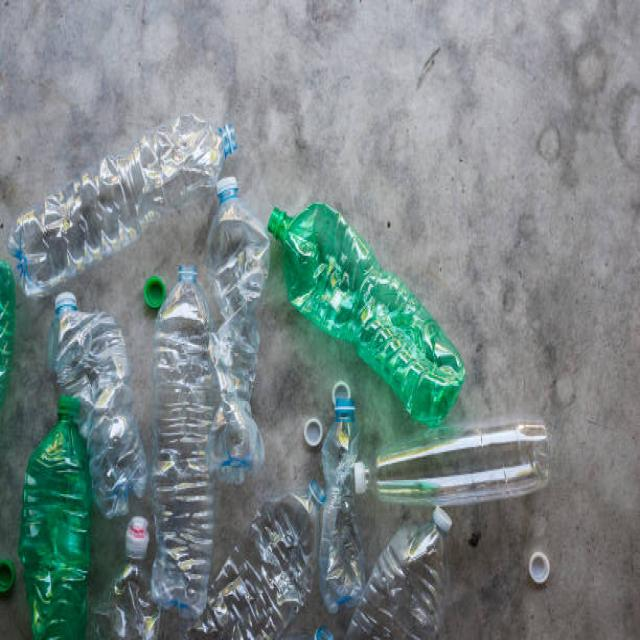plastic: (337, 406, 552, 510), (204, 174, 276, 477), (152, 262, 209, 615), (56, 290, 130, 480)
